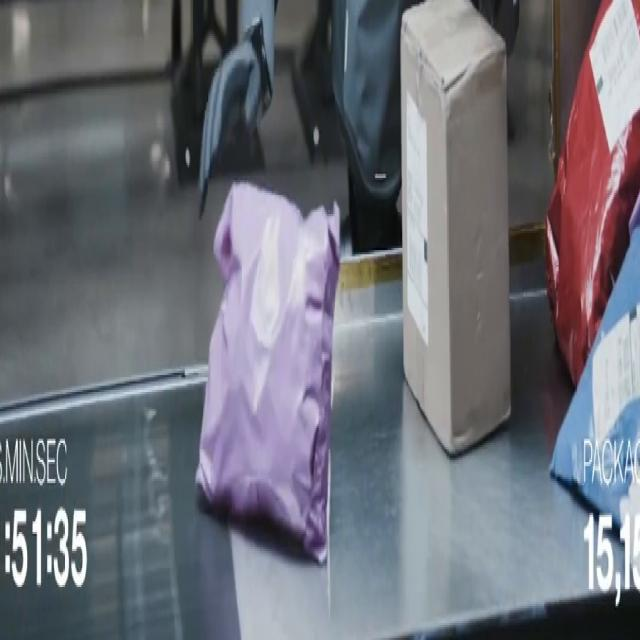package: (196, 185, 339, 563), (401, 0, 510, 453), (546, 0, 639, 383), (551, 229, 639, 527), (630, 193, 639, 236)
